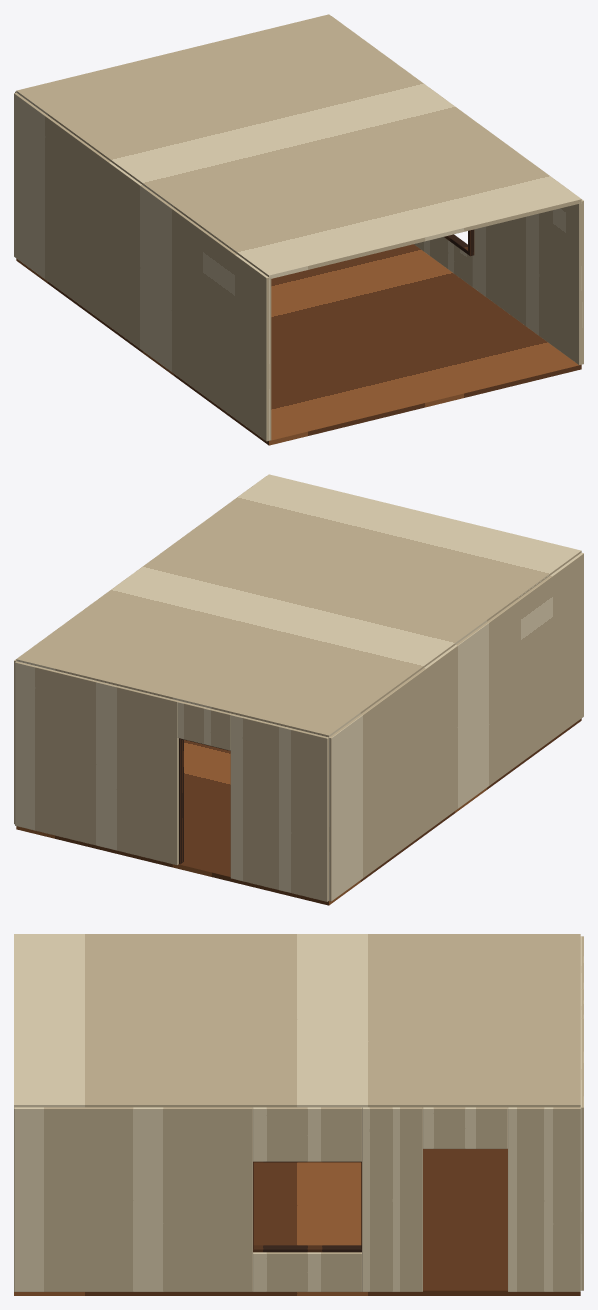
Rendered from deterministic-empty-room-shell.glb.
The picture shows the model from 3 angles, top to bottom: view 1: azimuth 30°, elevation 25°; view 2: azimuth 150°, elevation 25°; view 3: azimuth 270°, elevation 25°; orthographic projection. The views are drawn at different scales.
Visible parts, largest first — view 1: shell_ceiling, shell_left_wall, shell_floor, shell_right_front, shell_right_window_sill; view 2: shell_ceiling, shell_left_wall, shell_rear_right, shell_rear_left, shell_floor, shell_rear_door_header, rear_door_right_trim; view 3: shell_ceiling, shell_right_front, shell_floor, shell_right_rear, shell_right_between, shell_right_window_header, shell_right_window_sill, shell_right_door_header, shell_rear_right, window_lower_trim.
Part boxes in pixels (x1,y1,x2,y2): shell_ceiling: [16, 14, 581, 278]; shell_left_wall: [14, 92, 271, 441]; shell_floor: [16, 244, 581, 445]; shell_right_front: [472, 123, 583, 365]; shell_right_window_sill: [424, 237, 472, 286]; shell_ceiling: [16, 474, 581, 737]; shell_left_wall: [329, 552, 583, 901]; shell_rear_right: [15, 661, 178, 865]; shell_rear_left: [230, 714, 328, 901]; shell_floor: [16, 718, 581, 905]; shell_rear_door_header: [177, 701, 231, 750]; rear_door_right_trim: [179, 738, 183, 864]; shell_ceiling: [14, 934, 580, 1107]; shell_right_front: [14, 1107, 252, 1291]; shell_floor: [14, 1149, 580, 1295]; shell_right_rear: [508, 1107, 580, 1291]; shell_right_between: [362, 1107, 422, 1291]; shell_right_window_header: [253, 1107, 361, 1161]; shell_right_window_sill: [253, 1252, 361, 1291]; shell_right_door_header: [423, 1107, 507, 1148]; shell_rear_right: [580, 1018, 583, 1290]; window_lower_trim: [253, 1245, 361, 1252].
Size of the model in its own units: 10.16 by 5.2 by 14.08.
Materials: 3 (3 with a texture image).
